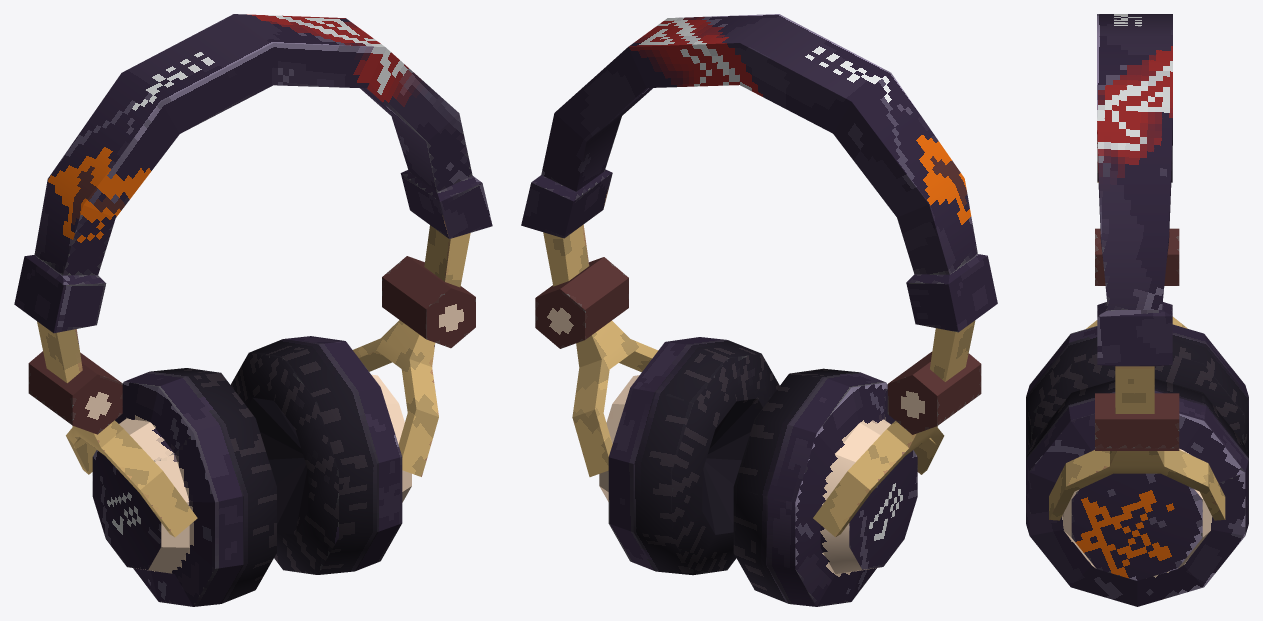
File: headphone_1.glb
The picture shows the model from 3 angles, left to right: view 1: azimuth 30°, elevation 25°; view 2: azimuth 150°, elevation 25°; view 3: azimuth 270°, elevation 25°; orthographic projection. The views are drawn at different scales.
Parts seen in each view (by area): view 1: Object_2; view 2: Object_2; view 3: Object_2.
Part boxes in pixels (<box>): Object_2: <box>14,14,492,606</box>; Object_2: <box>521,14,997,606</box>; Object_2: <box>1026,14,1248,606</box>.
Bounding box in the file's own units: 1.39 × 1.68 × 0.6403.
1 material, 1 textured.
